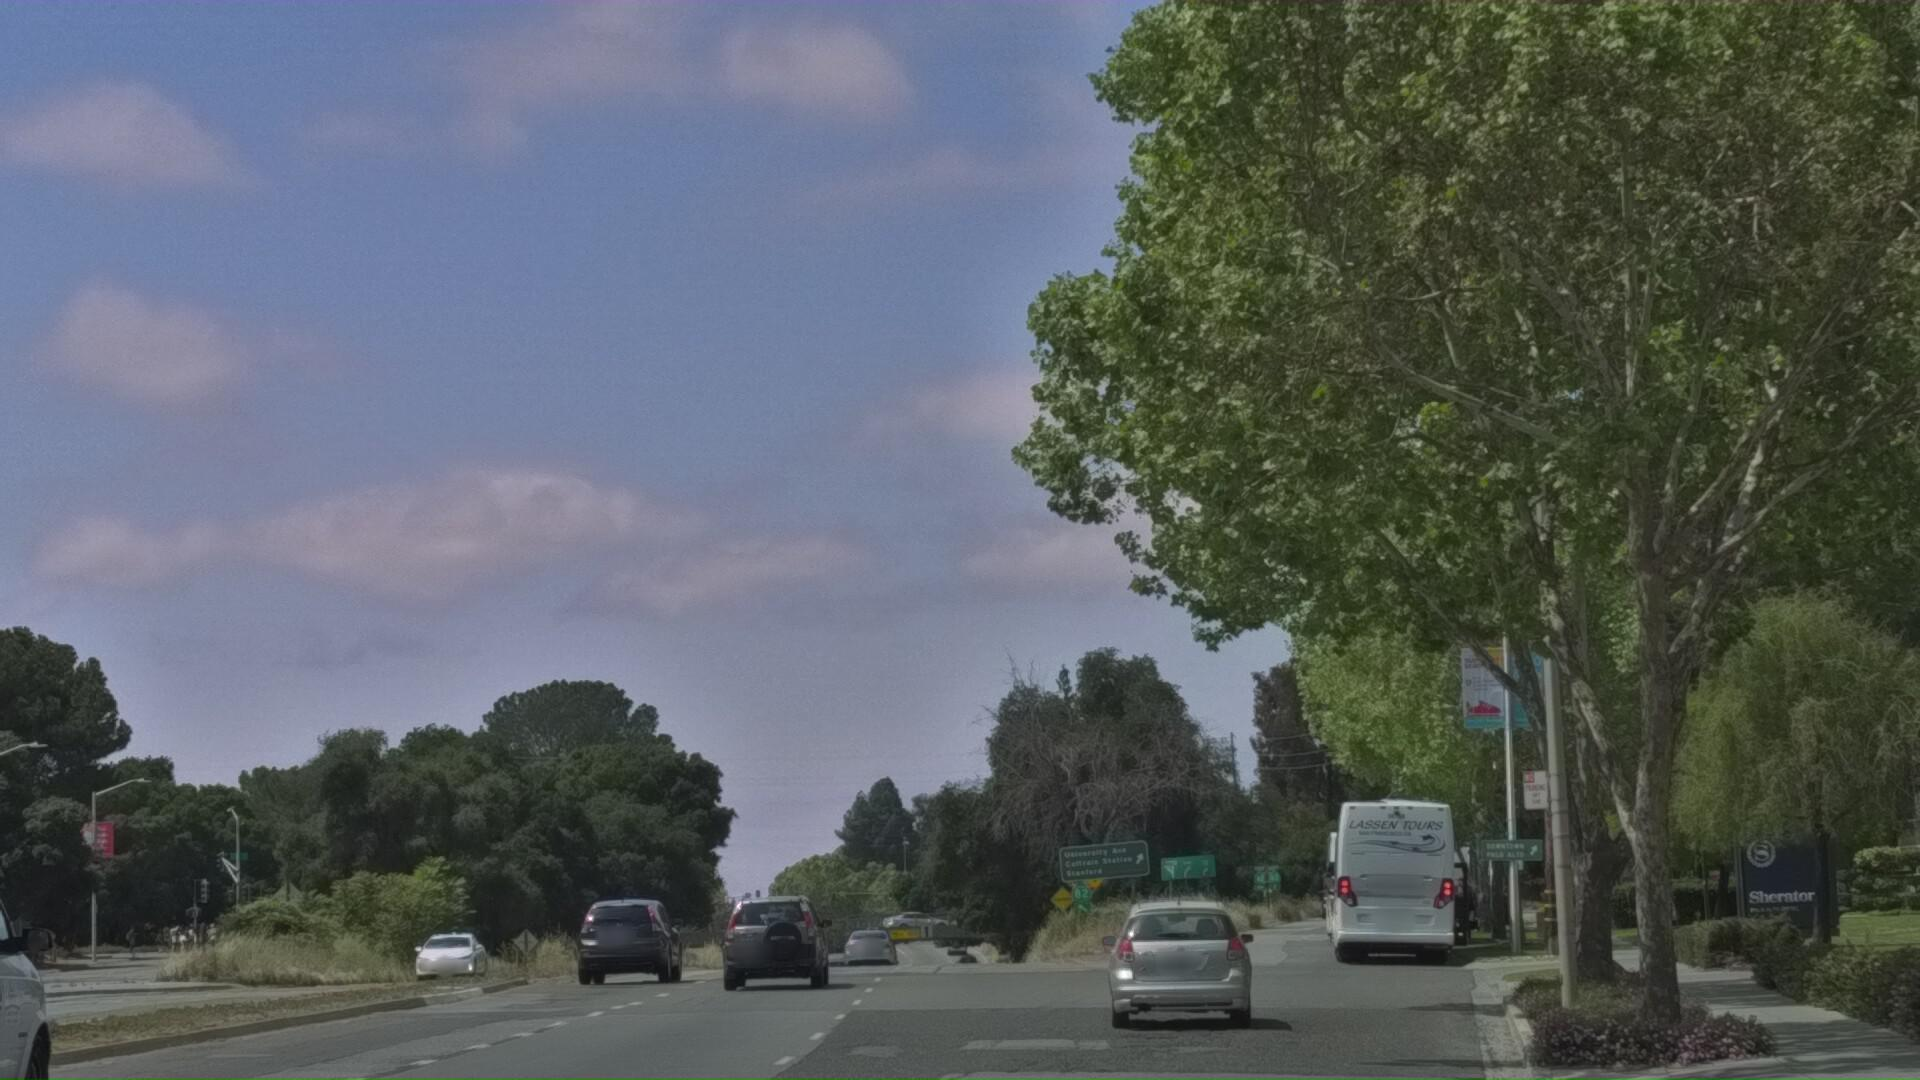bus: (1292, 895, 1462, 1076)
car: (1096, 981, 1270, 1080), (0, 876, 80, 1080), (717, 993, 832, 1080), (575, 1009, 691, 1080)
